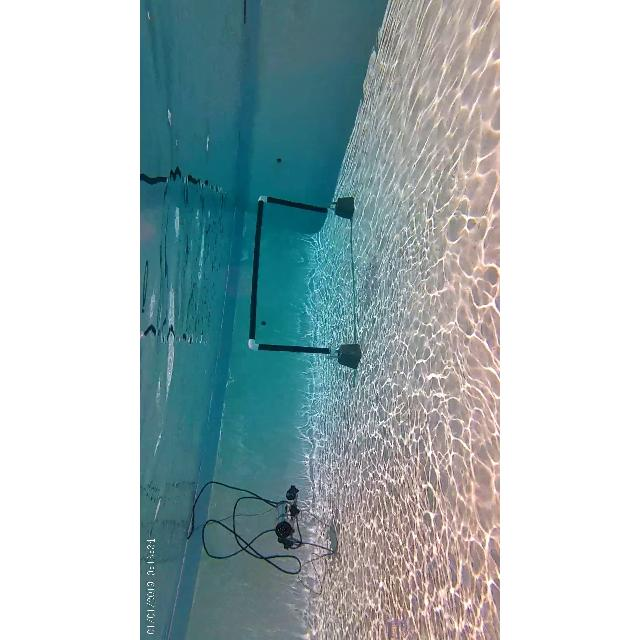prequal gate: (248, 195, 338, 355)
prequal gate leg l: (242, 328, 340, 366)
prequal gate leg r: (256, 186, 342, 224)
